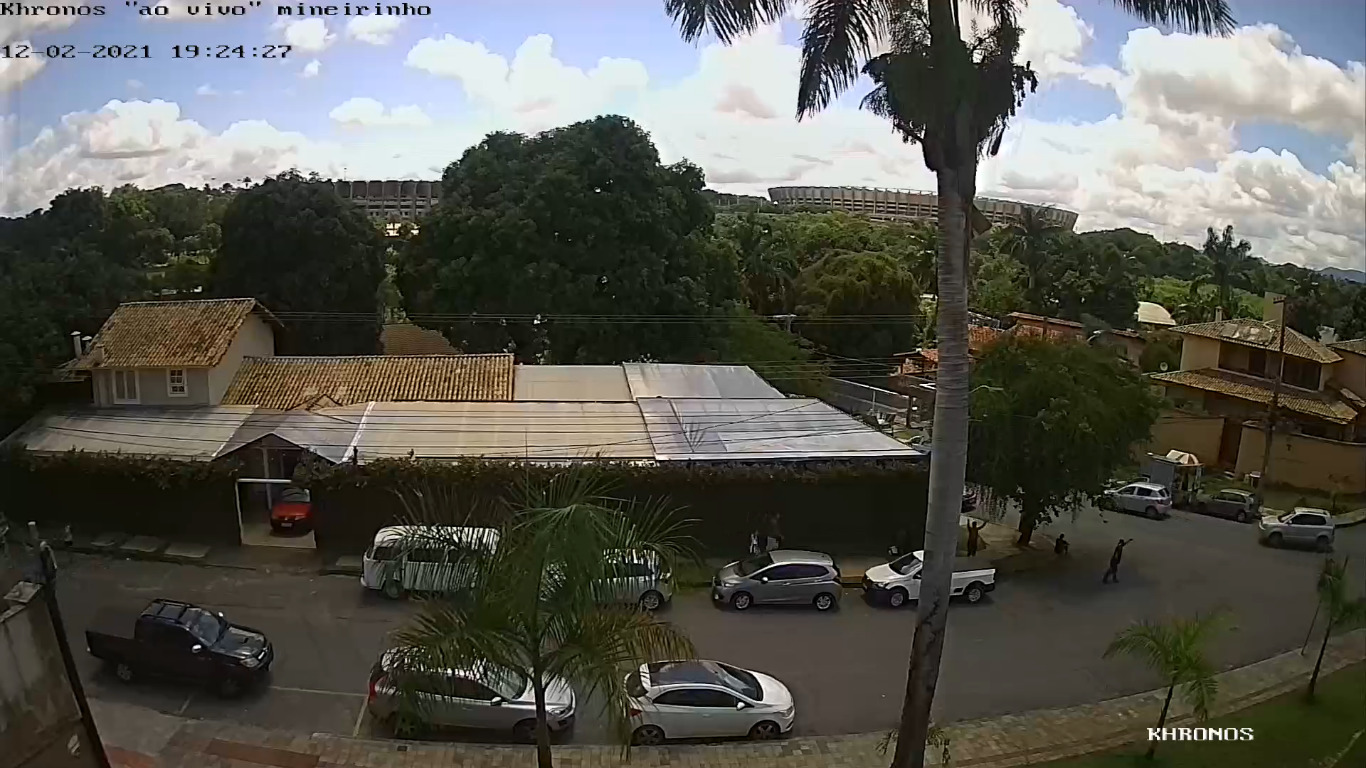car: (367, 643, 577, 744), (83, 596, 274, 699), (617, 659, 795, 745), (710, 549, 842, 609), (862, 549, 996, 607)
